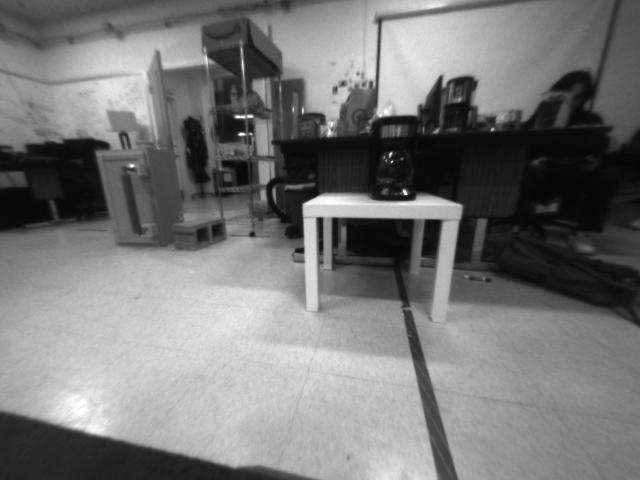coffee_pot: (366, 116, 423, 204)
